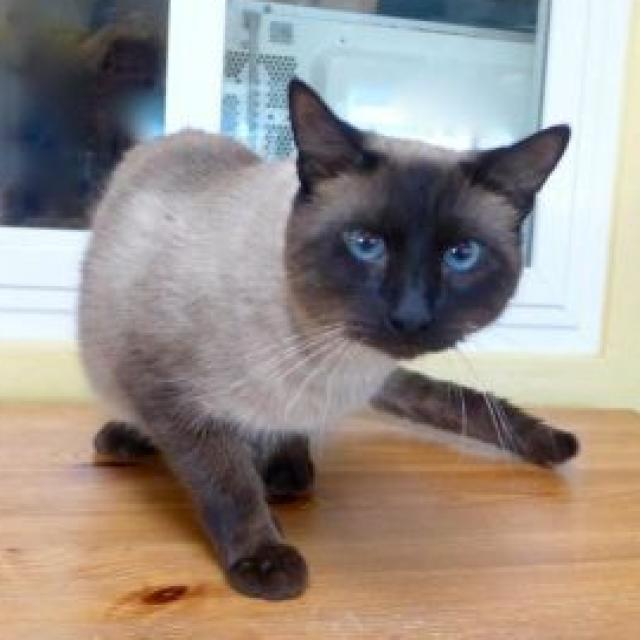Siamese: (69, 72, 582, 603)
